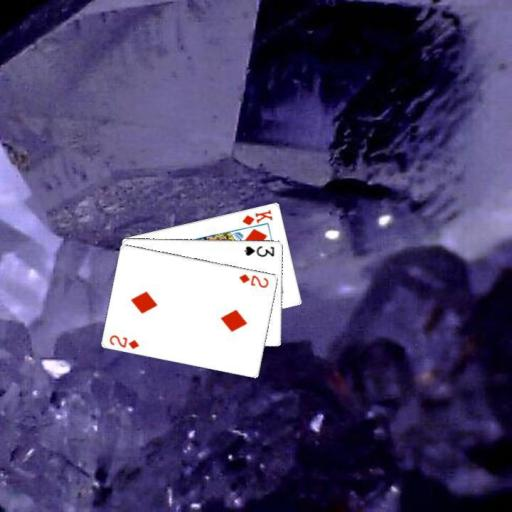2D: (107, 331, 141, 350), (236, 271, 270, 289)
3S: (242, 243, 276, 258)
KD: (239, 206, 274, 227)
